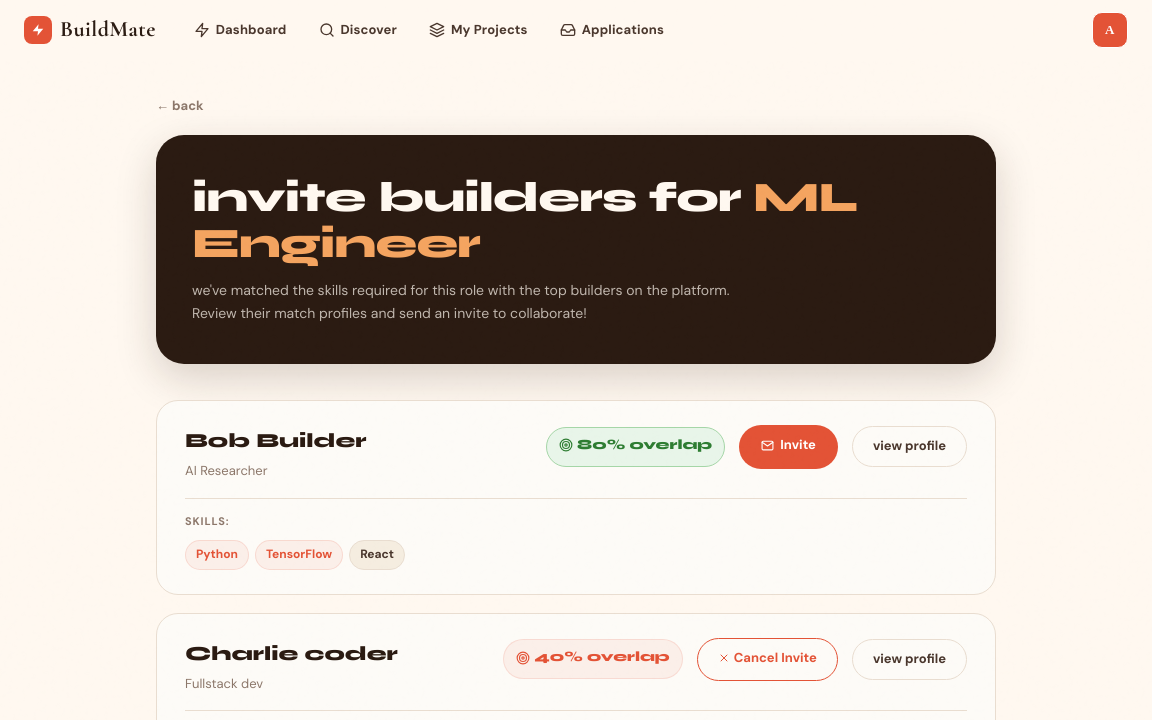
InviteBuilders › handles cancelling an invitation
This screenshot has width=1152, height=720.
Step 1. Click the button "Cancel Invite" → (767, 659), box [697,638,838,681]
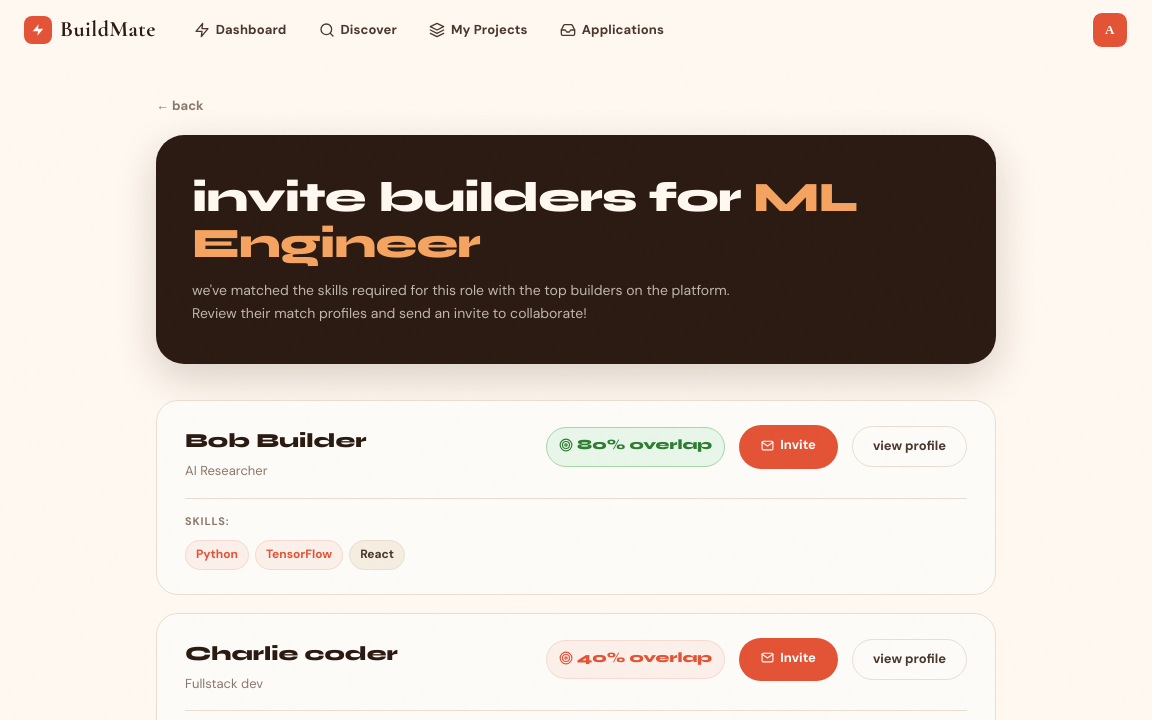
Expected: the number of buttons "Invite" is 2, [739,425,838,469]; [739,638,838,681]
